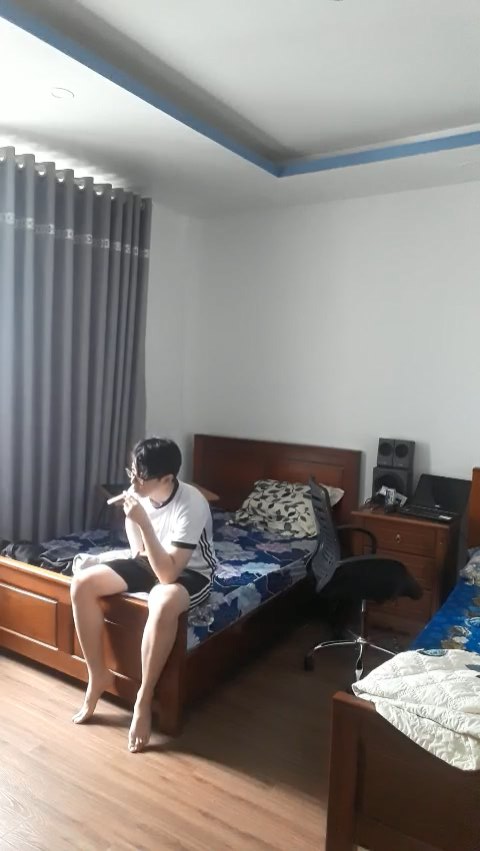cigarette: (103, 495, 125, 505)
person: (62, 430, 219, 766)
